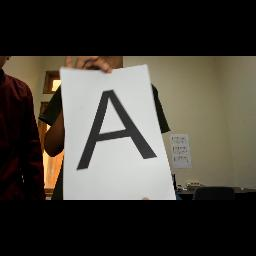a: (75, 88, 157, 172)
